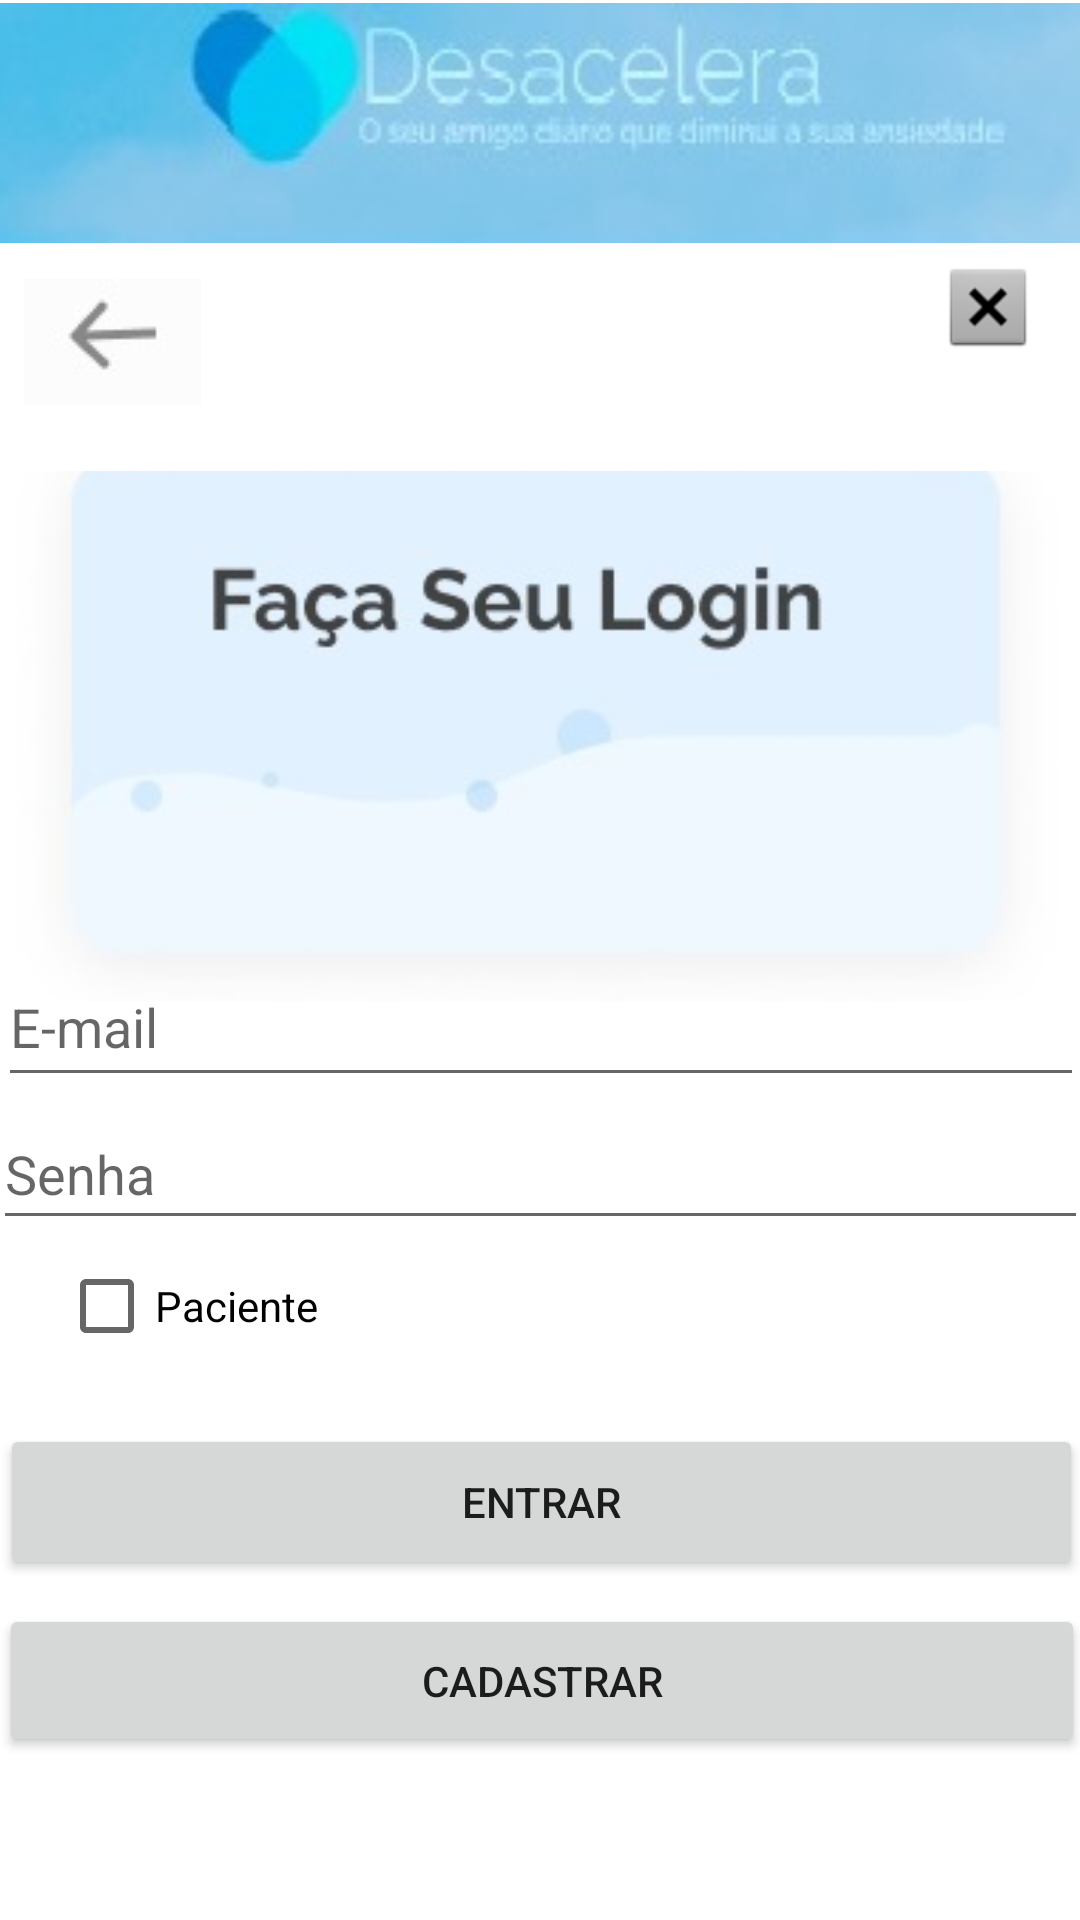

Icons on this 1080×1920 Android screen, each with the point to tap as (x,y):
fig voltar: (113,335)
